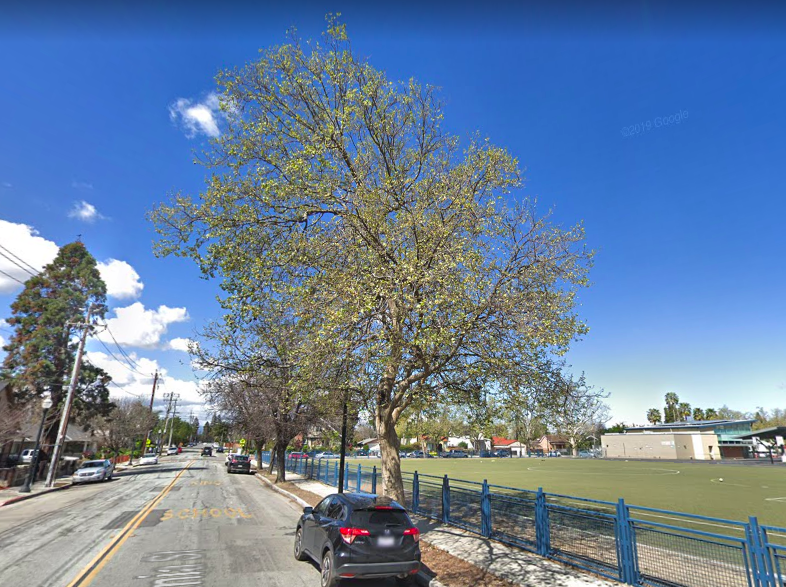tree: (143, 10, 599, 507)
